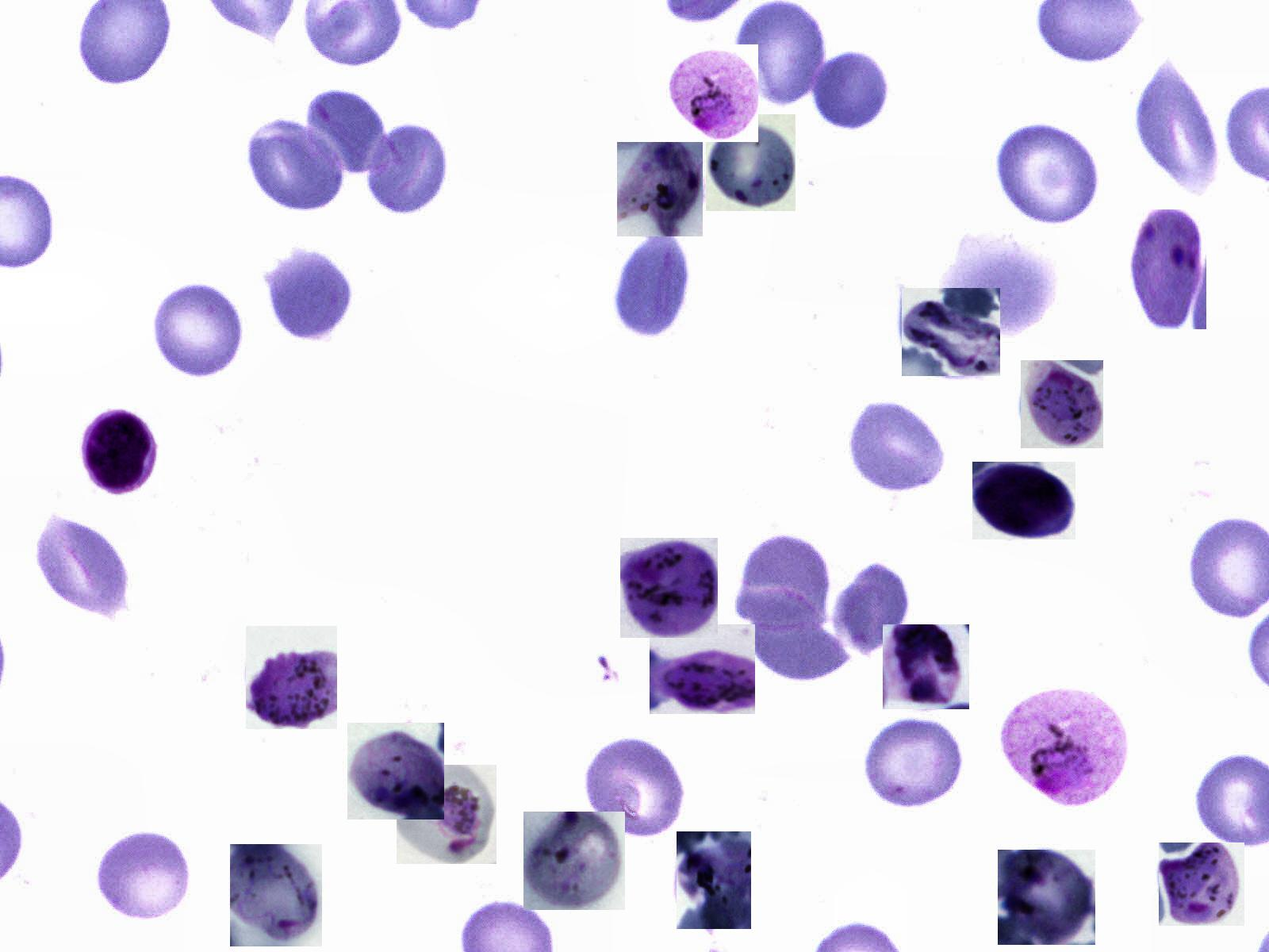Infected: (998, 686, 1130, 809), (523, 812, 625, 910), (397, 765, 496, 864), (620, 538, 718, 638), (650, 624, 755, 714), (347, 723, 444, 820), (230, 844, 322, 946), (246, 626, 337, 729), (1129, 209, 1206, 329), (998, 850, 1095, 945), (668, 44, 759, 142), (706, 114, 796, 211), (902, 288, 1000, 376), (617, 142, 703, 236), (972, 462, 1075, 539), (883, 624, 969, 709), (81, 408, 162, 498), (677, 831, 751, 929), (1021, 360, 1103, 448), (1159, 843, 1244, 926)
Uninfected: (1134, 54, 1221, 196), (732, 1, 828, 113), (583, 737, 685, 841), (948, 234, 1051, 336), (33, 510, 131, 616), (995, 125, 1099, 224), (264, 239, 356, 347), (849, 398, 949, 496), (152, 278, 247, 381), (247, 113, 345, 209), (737, 532, 830, 632), (866, 716, 966, 808), (95, 830, 194, 920), (614, 227, 688, 347), (362, 121, 452, 217), (746, 599, 853, 679), (834, 558, 909, 664), (303, 84, 387, 174), (812, 48, 889, 129)
